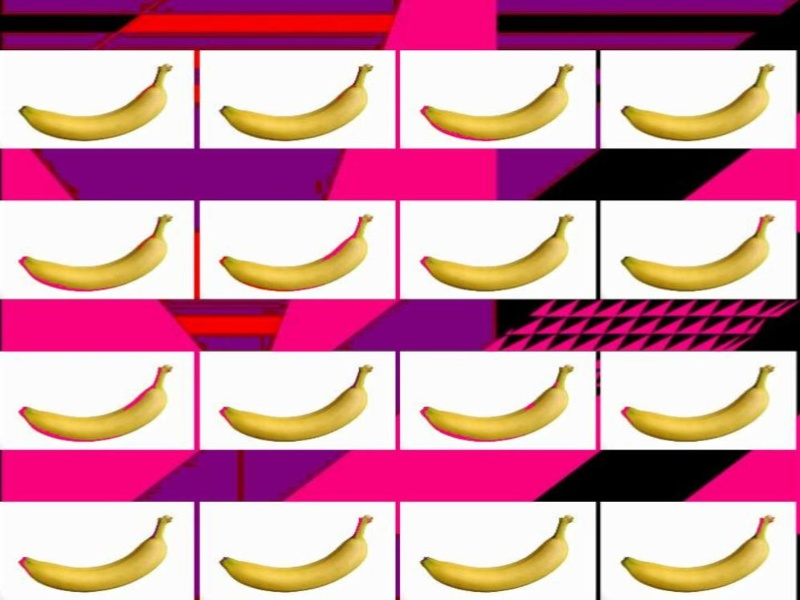banana: (214, 361, 382, 444), (12, 212, 177, 296), (615, 59, 777, 143), (416, 209, 577, 293), (612, 212, 781, 292), (412, 61, 576, 142), (12, 516, 179, 595), (16, 60, 175, 142), (16, 363, 176, 443), (420, 513, 576, 594), (620, 360, 774, 442), (217, 64, 377, 142), (214, 214, 376, 291), (217, 512, 374, 591), (619, 513, 775, 592), (419, 362, 574, 441)
